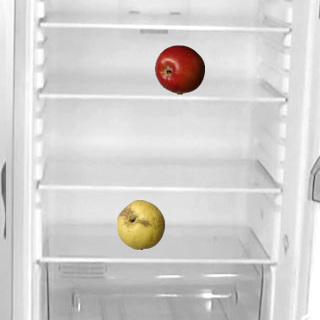Apple Braeburn: (154, 44, 204, 94)
Apple Golden 1: (115, 199, 165, 249)
